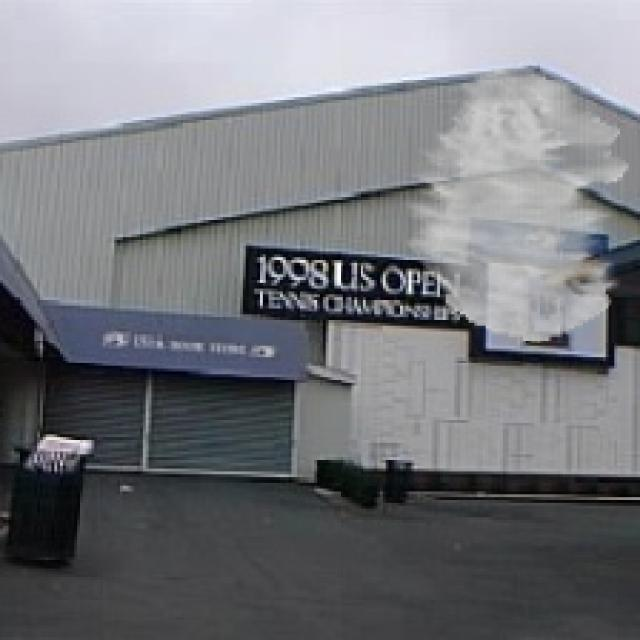smoke: (403, 69, 628, 340)
